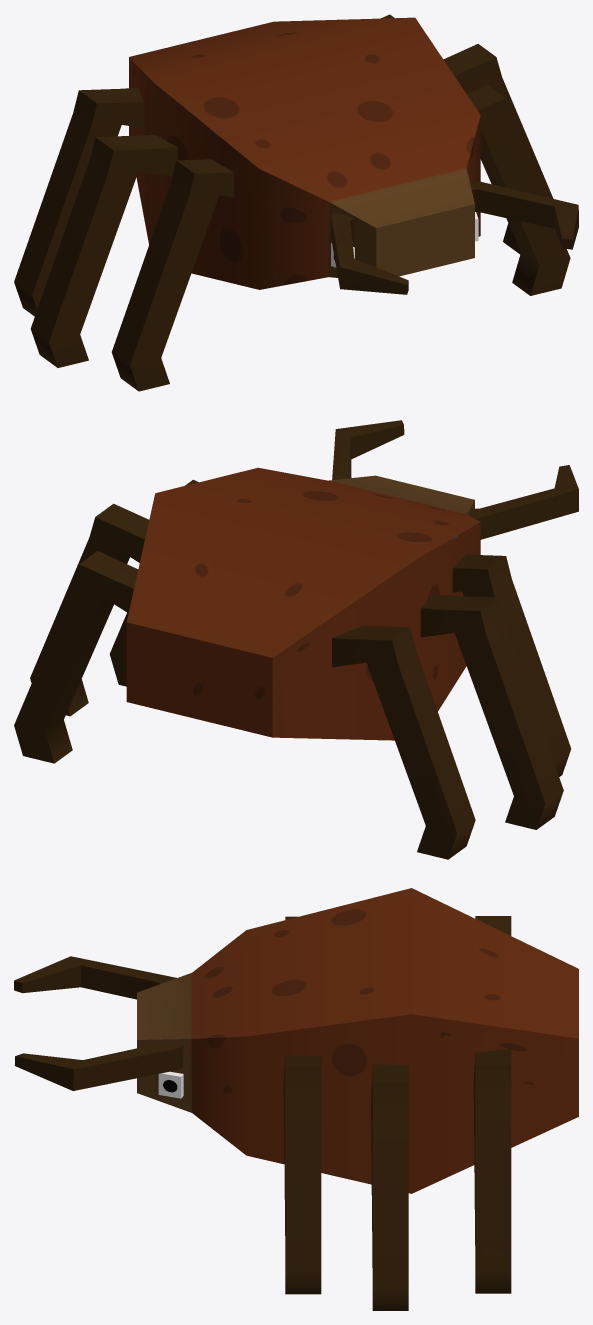
File: NewBug.fbx
The picture shows the model from 3 angles, top to bottom: view 1: azimuth 30°, elevation 25°; view 2: azimuth 150°, elevation 25°; view 3: azimuth 270°, elevation 25°; orthographic projection. The views are drawn at different scales.
Parts seen in each view (by area): view 1: pCube1, pCube8, pCube9, pCube7, pCube5, pCube11, pCube4, pCube10; view 2: pCube1, pCube8, pCube7, pCube6, pCube9, pCube4, pCube10, pCube11, pCube5; view 3: pCube1, pCube4, pCube6, pCube5, pCube11, pCube10, pCube2.
Part boxes in pixels (bbox=[...]): pCube1: bbox=[129, 17, 480, 289]; pCube8: bbox=[30, 134, 177, 367]; pCube9: bbox=[111, 159, 234, 391]; pCube7: bbox=[14, 87, 143, 316]; pCube5: bbox=[467, 84, 570, 295]; pCube11: bbox=[469, 180, 578, 249]; pCube4: bbox=[443, 44, 553, 254]; pCube10: bbox=[331, 212, 408, 294]; pCube1: bbox=[126, 467, 480, 740]; pCube8: bbox=[420, 594, 563, 829]; pCube7: bbox=[332, 625, 475, 859]; pCube6: bbox=[14, 551, 138, 763]; pCube9: bbox=[452, 554, 571, 776]; pCube4: bbox=[30, 503, 149, 716]; pCube10: bbox=[469, 465, 578, 539]; pCube11: bbox=[332, 420, 404, 479]; pCube5: bbox=[109, 479, 198, 686]; pCube1: bbox=[137, 888, 578, 1193]; pCube4: bbox=[371, 1064, 408, 1310]; pCube6: bbox=[473, 1049, 511, 1293]; pCube5: bbox=[283, 1055, 321, 1294]; pCube11: bbox=[14, 1041, 183, 1090]; pCube10: bbox=[14, 956, 176, 999]; pCube2: bbox=[158, 1071, 183, 1098].
Bounding box in the file's own units: 87.29 × 39.72 × 84.6.
1 material, 1 textured.
